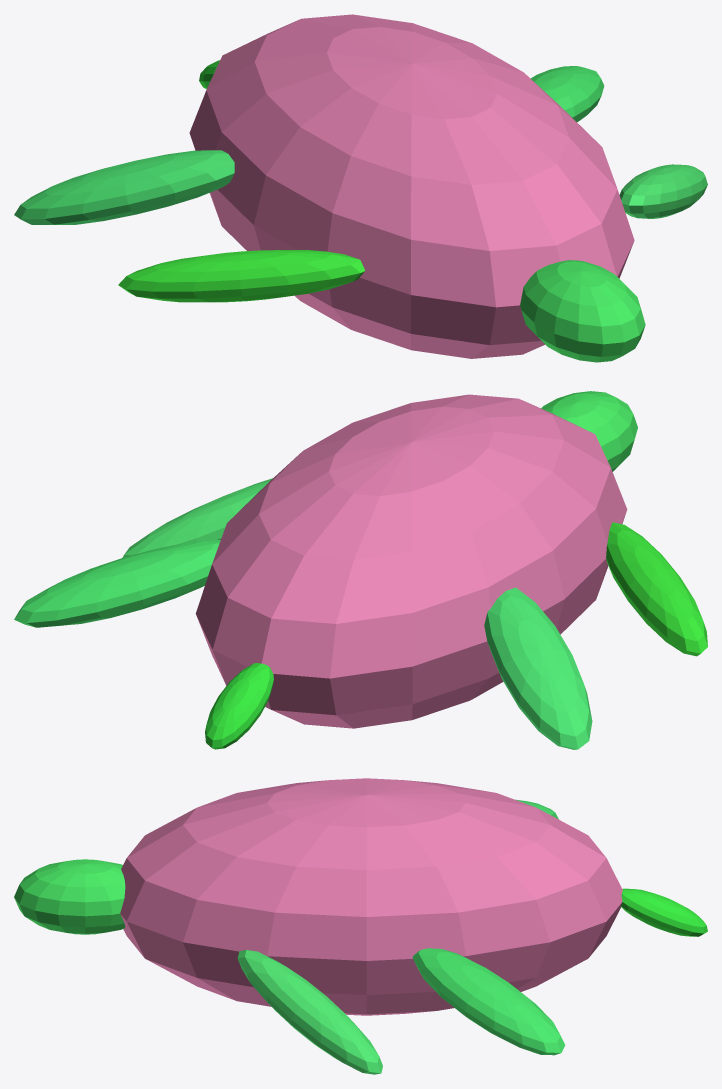
The model's file is turtle.fbx.
3 views of the same model, one above another, from view 1: azimuth 30°, elevation 25°; view 2: azimuth 150°, elevation 25°; view 3: azimuth 270°, elevation 25° (orthographic). The views are drawn at different scales.
Visible parts, largest first — view 1: 球, 球.003, 球.004, 球.006, 球.001, 球.002; view 2: 球, 球.004, 球.002, 球.003, 球.006, 球.005, 球.001; view 3: 球, 球.002, 球.006, 球.001, 球.005.
Boxes of the visible parts, <box> form: 球: <box>189,14,634,358</box>; 球.003: <box>118,250,365,302</box>; 球.004: <box>14,150,234,224</box>; 球.006: <box>520,260,645,362</box>; 球.001: <box>619,164,707,218</box>; 球.002: <box>530,66,604,122</box>; 球: <box>195,394,627,728</box>; 球.004: <box>484,587,592,749</box>; 球.002: <box>14,540,220,627</box>; 球.003: <box>606,522,707,656</box>; 球.006: <box>541,391,637,471</box>; 球.005: <box>205,663,273,749</box>; 球.001: <box>122,478,272,557</box>; 球: <box>120,778,622,1015</box>; 球.002: <box>412,948,565,1055</box>; 球.006: <box>14,859,125,934</box>; 球.001: <box>237,950,382,1074</box>; 球.005: <box>620,888,707,936</box>.
Bounding box in the file's own units: 262 × 104 × 321.
